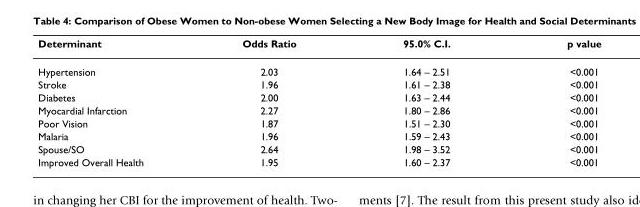table: (37, 36, 600, 167)
table column: (349, 36, 508, 167), (192, 36, 349, 167), (37, 36, 192, 167), (508, 36, 600, 167)
table column header: (37, 36, 600, 57)
table row: (37, 36, 600, 57), (37, 57, 600, 77), (37, 77, 600, 90), (37, 90, 600, 103), (37, 103, 600, 116), (37, 116, 600, 129), (37, 129, 600, 142), (37, 142, 600, 155), (37, 155, 600, 167)
